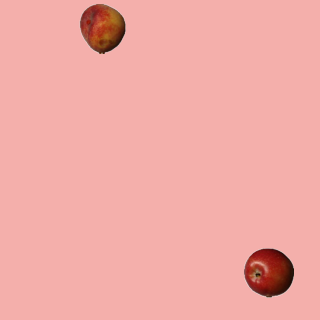Apple Braeburn: (243, 247, 293, 297)
Peach: (77, 3, 127, 53)
